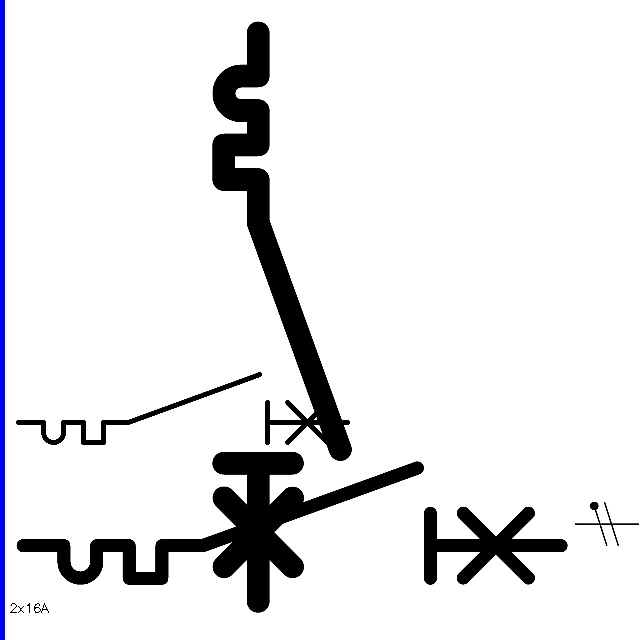interruptor_termomagnetico: (209, 18, 355, 616), (9, 454, 574, 592), (10, 366, 356, 451)
